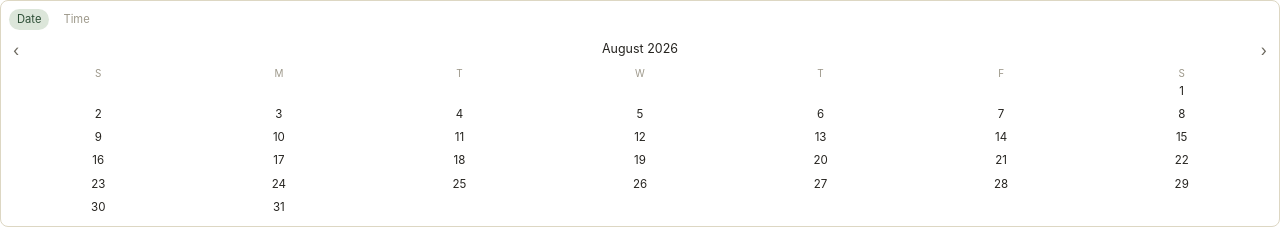
Test: DateTimePicker › switching to the Time tab before a date is picked prompts to pick a date first
Click the button "Time" at (77, 19), box [55,9,98,30]
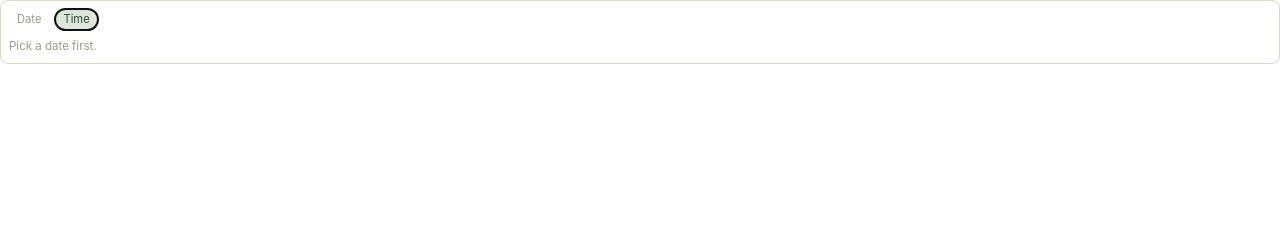
Check: the text "Pick a date first." is shown, box [9,38,97,55]
